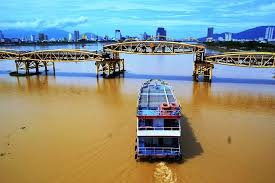tau_dansu: (134, 79, 182, 161)
